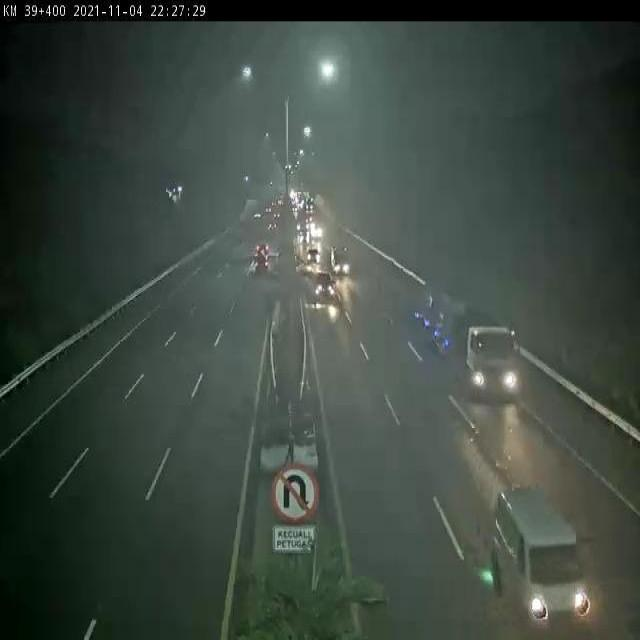car: (491, 489, 591, 627), (313, 271, 334, 297), (254, 256, 271, 275)
truck-s-: (330, 244, 350, 276)
truck-xl-: (410, 283, 515, 396)
